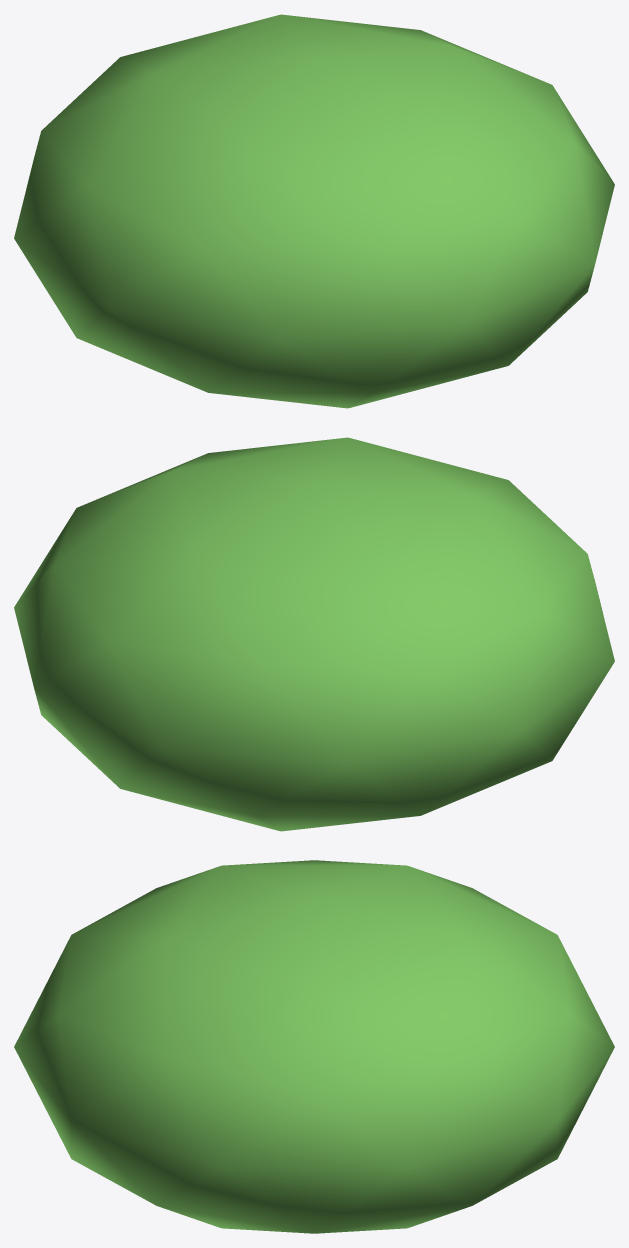
The model's file is food_lettuce.glb.
3 renders of one model, top to bottom at view 1: azimuth 30°, elevation 25°; view 2: azimuth 150°, elevation 25°; view 3: azimuth 270°, elevation 25°, orthographic. The views are drawn at different scales.
Visible parts, largest first — view 1: lettuce; view 2: lettuce; view 3: lettuce.
Part boxes in pixels (x1=…): lettuce: x1=14, y1=14, x2=614, y2=408; lettuce: x1=14, y1=437, x2=614, y2=831; lettuce: x1=14, y1=860, x2=614, y2=1233.
Size of the model in its own units: 0.3424 by 0.198 by 0.36.
